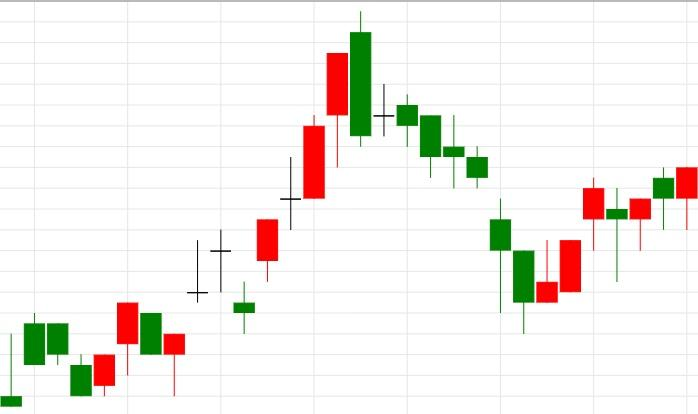inverse_hammer_rise: (349, 11, 559, 335)
